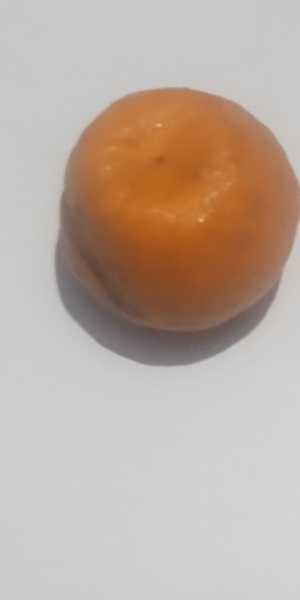BAD: (64, 82, 300, 338)
